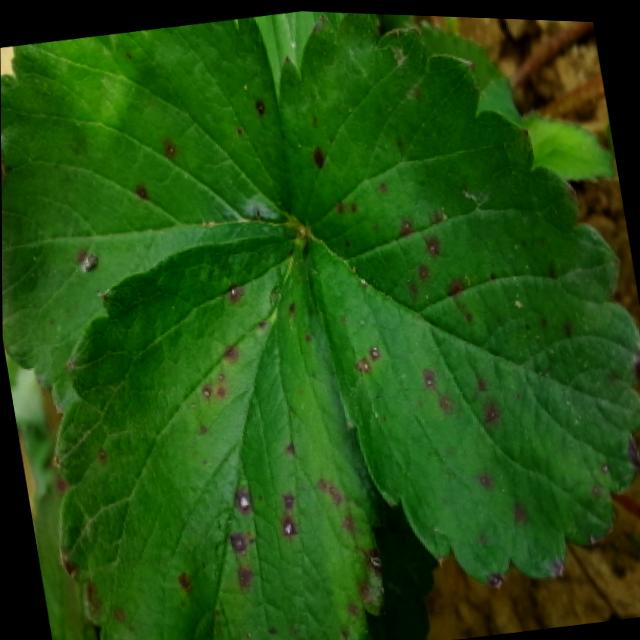Leaf Spot: (276, 10, 640, 583), (55, 231, 387, 640), (1, 14, 297, 410)
